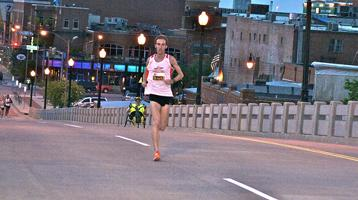person: (142, 34, 185, 163)
